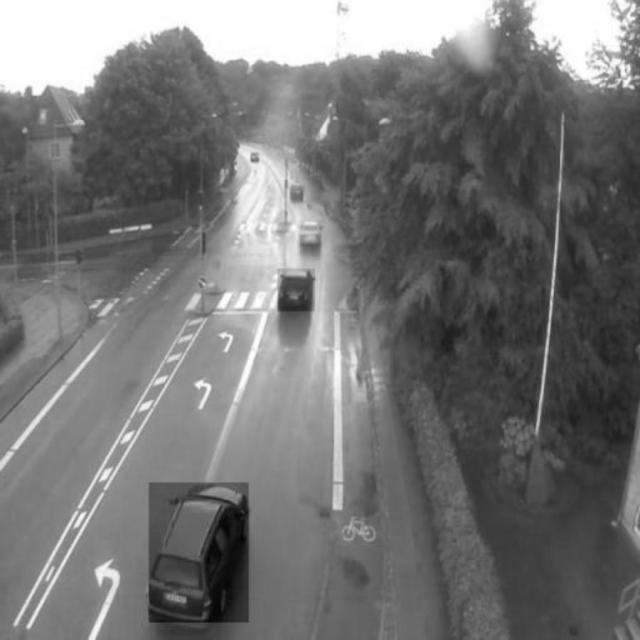vehicle: (149, 483, 249, 623), (278, 269, 315, 311), (298, 220, 325, 246)
